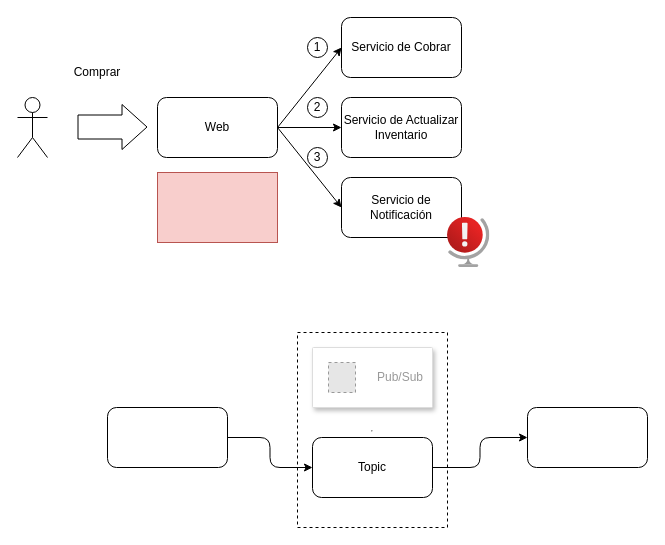
The diagram is 665 pixels wide and 545 high, and some of its shapes have lost their labels. Grey dashed boxes stand in for pictures. Here are the shapes that lost their labels. From the top down, the centre of each, then its label:
point 32,127: Actor
point 217,207: Flujo Secuencial: Afecta la Experiencia del Cliente
point 167,437: Web (Publisher)
point 587,437: Web (Subscriber)
